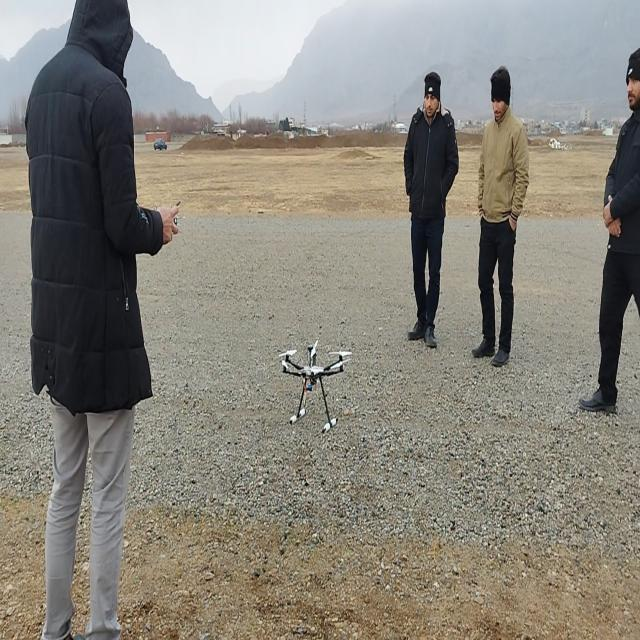drone: (278, 338, 353, 435)
